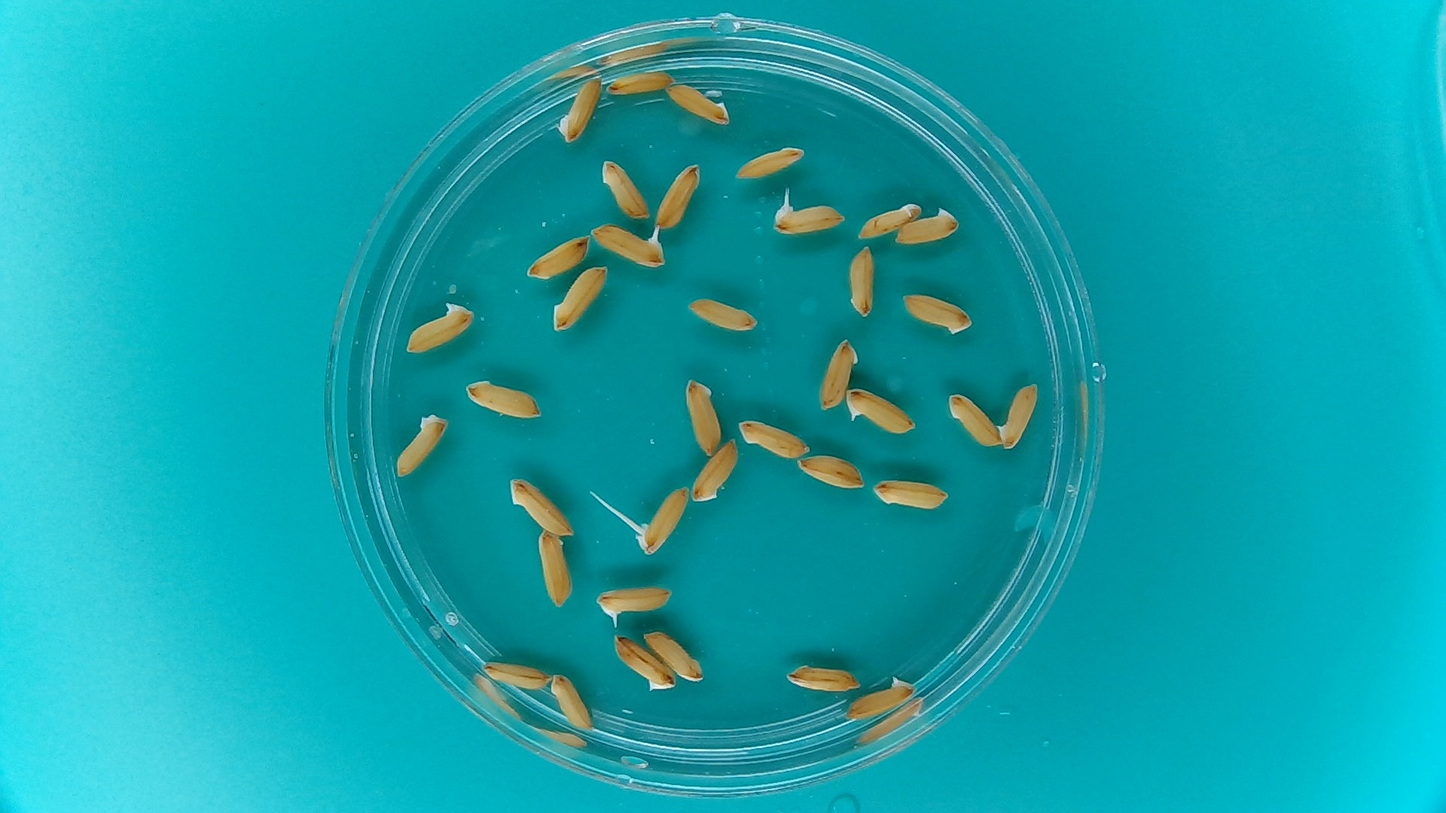no: (403, 298, 478, 355), (509, 478, 576, 537), (612, 633, 676, 693), (393, 412, 450, 479), (899, 291, 975, 338), (464, 377, 545, 421), (553, 266, 606, 331), (844, 676, 917, 723), (846, 388, 917, 436), (554, 74, 602, 144), (682, 377, 724, 456), (688, 438, 739, 503), (600, 158, 652, 220), (654, 163, 702, 230), (643, 630, 706, 681), (523, 233, 590, 280), (666, 81, 733, 127), (685, 294, 761, 334), (738, 417, 812, 458), (947, 391, 999, 449), (818, 338, 859, 410), (995, 382, 1038, 450), (537, 529, 573, 610), (872, 477, 951, 511), (856, 200, 923, 240), (895, 205, 961, 245), (797, 455, 866, 492), (551, 673, 594, 732), (783, 662, 861, 694), (480, 658, 551, 693), (733, 145, 806, 178), (846, 245, 877, 321), (604, 71, 674, 96)
yes: (636, 485, 689, 556), (590, 224, 667, 269), (770, 199, 838, 236), (599, 585, 675, 618)
